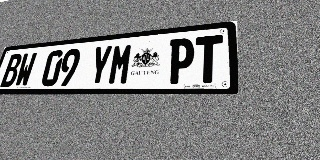0: (40, 50, 65, 86)
9: (56, 48, 82, 86)
B: (0, 53, 23, 87)
M: (107, 43, 134, 85)
P: (167, 37, 195, 84)
T: (194, 35, 223, 83)
W: (14, 52, 37, 87)
Y: (87, 45, 113, 86)
